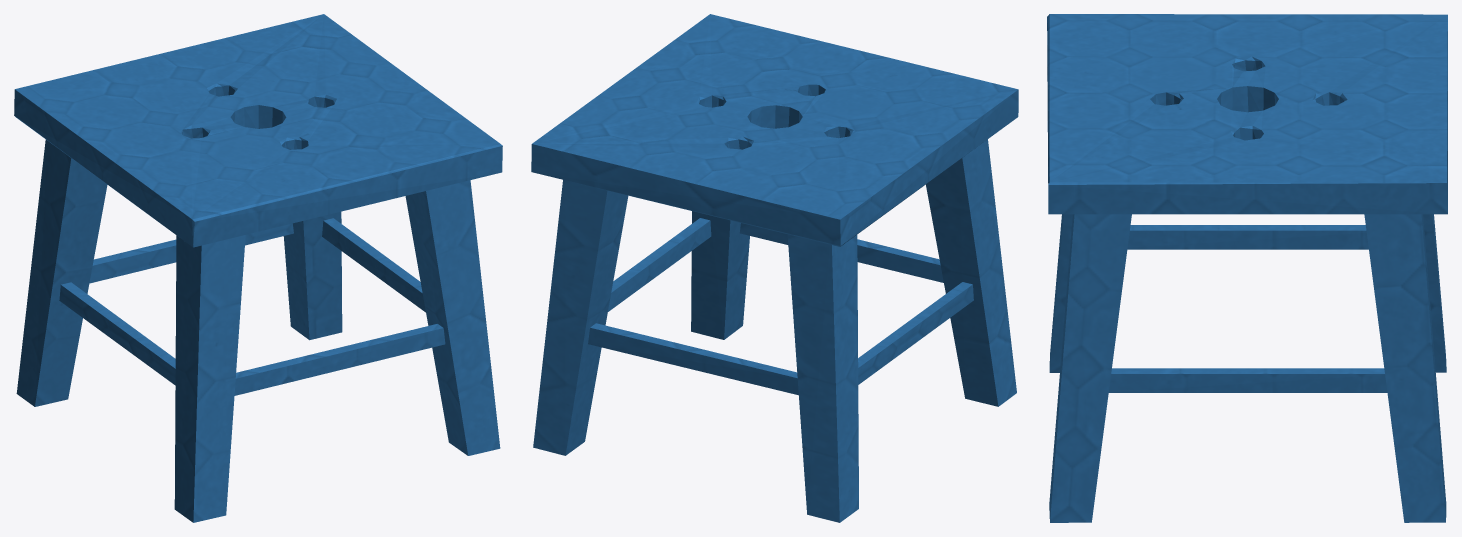
Rendered from ghe_nhua_xanh_lod1.glb.
3 renders of one model, left to right at view 1: azimuth 30°, elevation 25°; view 2: azimuth 150°, elevation 25°; view 3: azimuth 270°, elevation 25°, orthographic. The views are drawn at different scales.
Visible parts, largest first — view 1: stool; view 2: stool; view 3: stool.
Boxes of the visible parts, x1,y1,x2,y2 form: stool: (14, 14, 502, 522); stool: (531, 14, 1018, 522); stool: (1047, 14, 1447, 522).
Bounding box in the file's own units: 0.319 × 0.2995 × 0.3192.
Materials: 1 (1 with a texture image).
